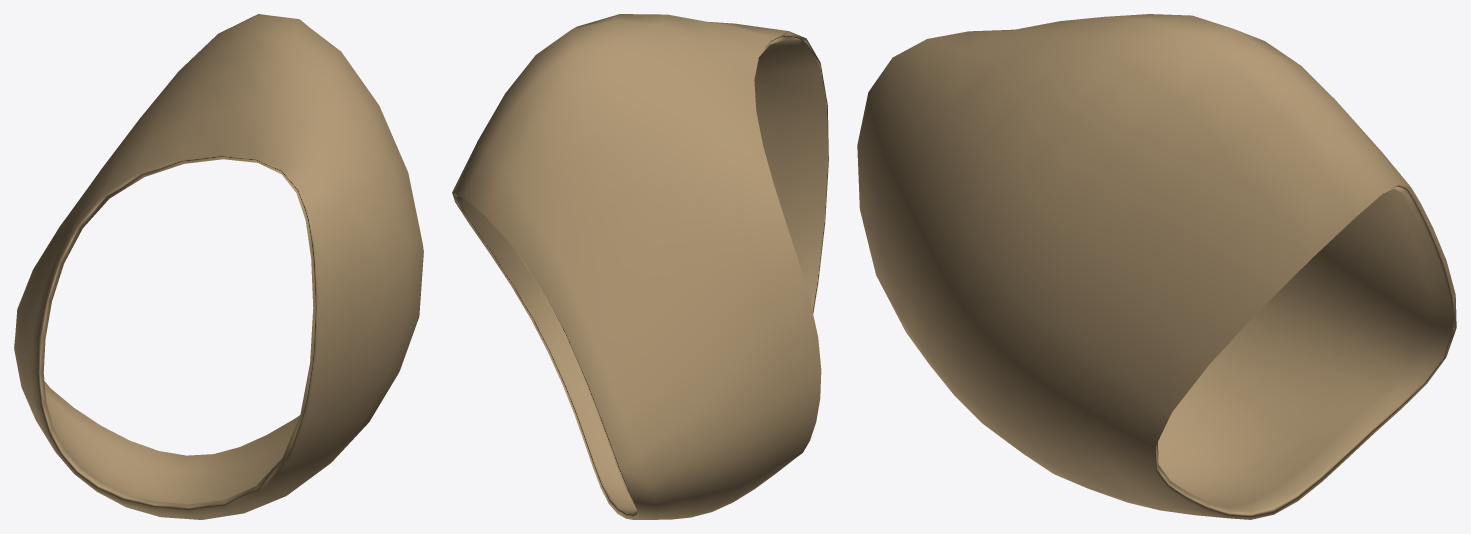
3 views of the same model, side by side, from view 1: azimuth 30°, elevation 25°; view 2: azimuth 150°, elevation 25°; view 3: azimuth 270°, elevation 25° (orthographic). The views are drawn at different scales.
Visible parts, largest first — view 1: 右侧胸锁关节囊; view 2: 右侧胸锁关节囊; view 3: 右侧胸锁关节囊.
Boxes of the visible parts, x1,y1,x2,y2 form: 右侧胸锁关节囊: (14, 14, 423, 519); 右侧胸锁关节囊: (452, 14, 828, 519); 右侧胸锁关节囊: (857, 14, 1456, 519).
Bounding box in the file's own units: 0.0348 × 0.0453 × 0.046.
